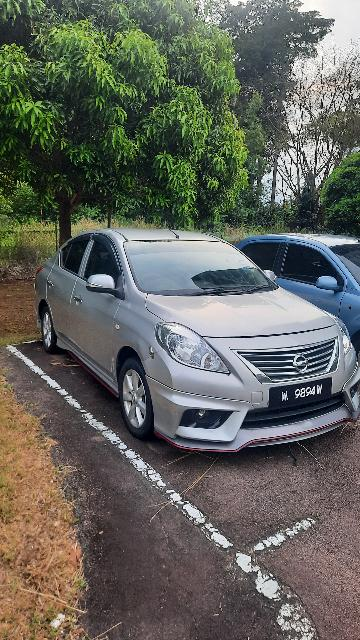License_Plate: (253, 368, 340, 408)
car: (24, 224, 359, 457), (227, 227, 360, 367)
